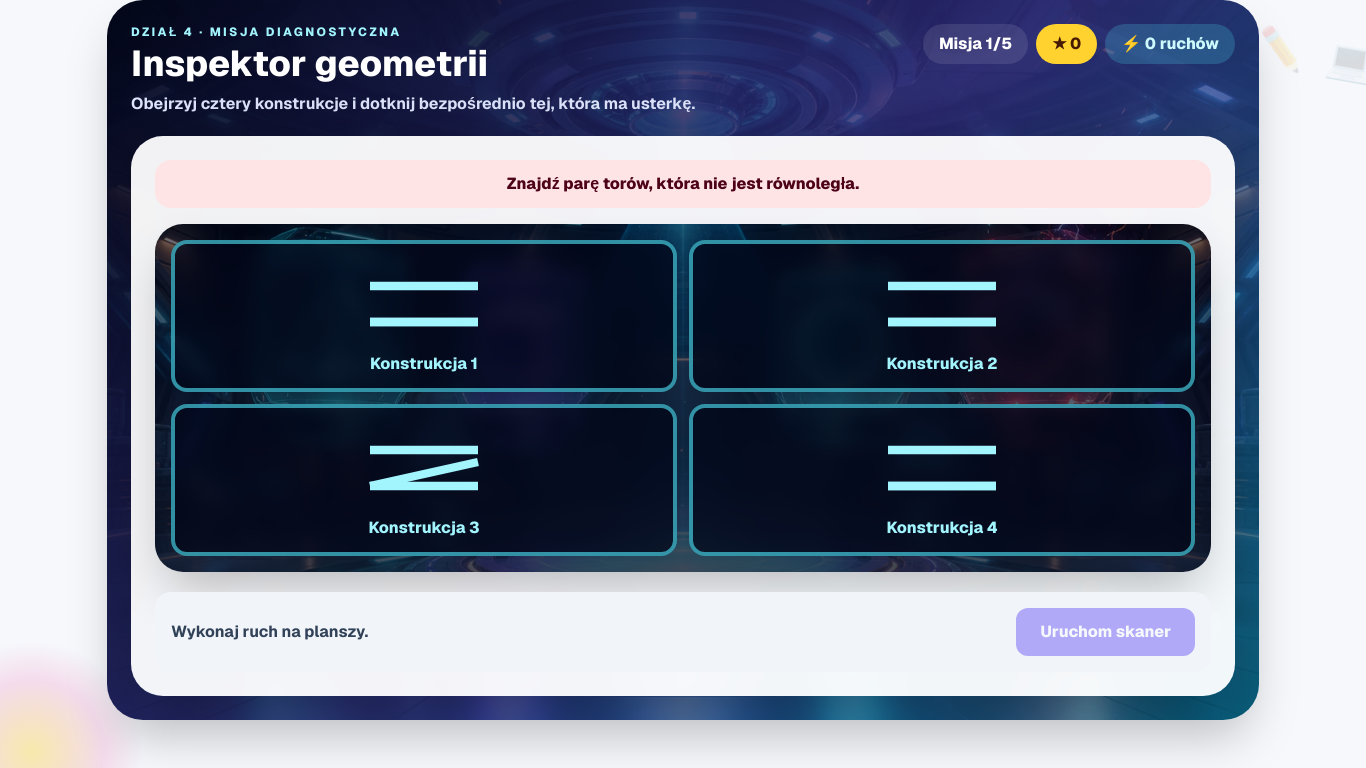
Test: gry interaktywne — Figury na płaszczyźnie › nie używa odpowiedzi A–D i wymaga działania bezpośrednio na planszy
Expected: the button "Uruchom skaner" is disabled, [1016,608,1195,656]
Click the button "Konstrukcja 3".
click(424, 480)  # box [171,404,677,556]
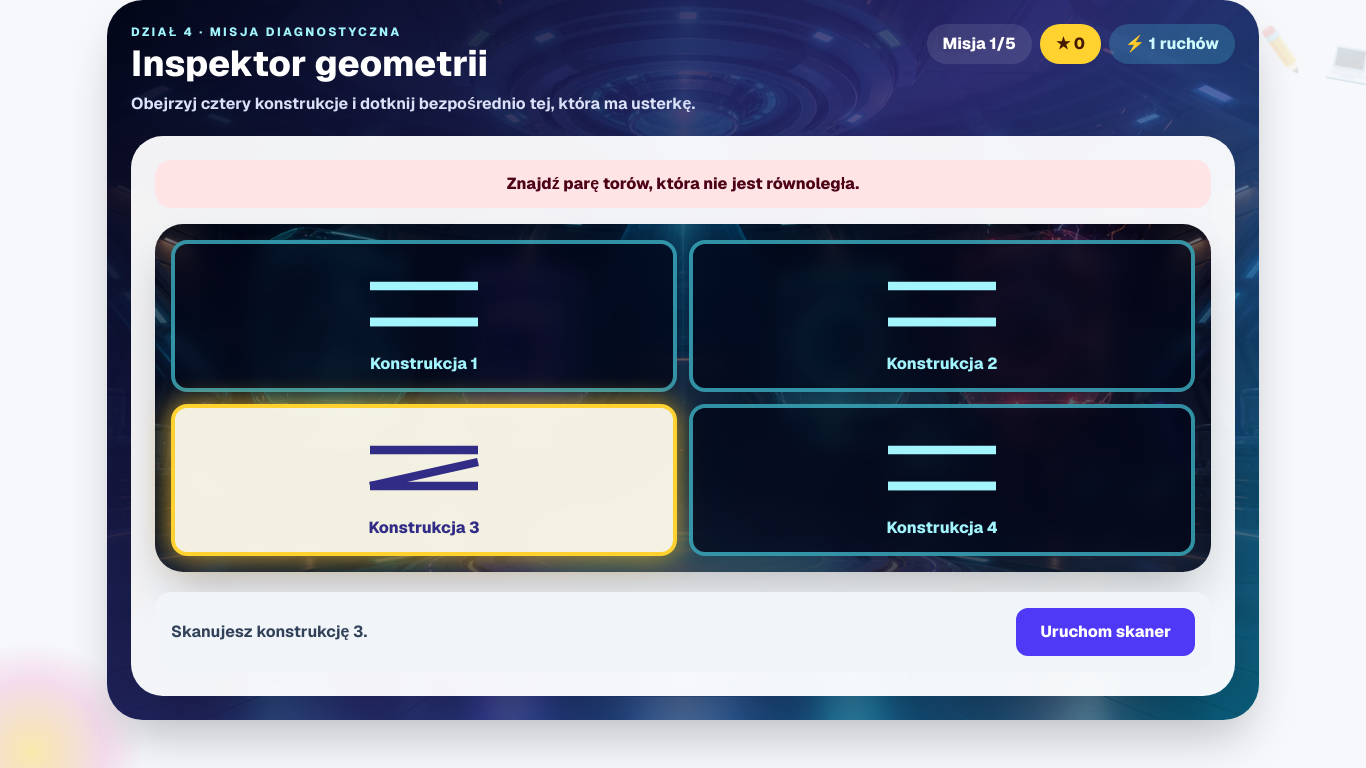
Result: the button "Uruchom skaner" is enabled at [1016,608,1195,656]
